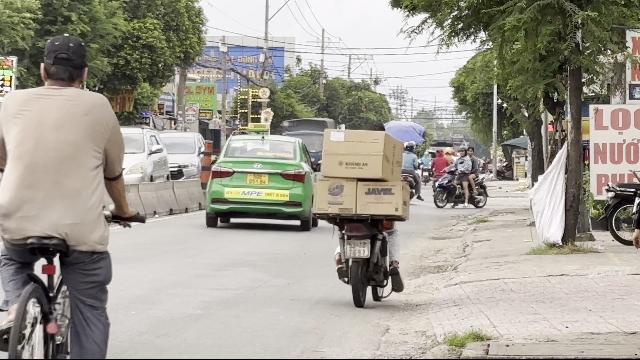licenseplate: (343, 239, 369, 257)
motorcyclist: (310, 100, 422, 306)
nohelmet: (361, 118, 387, 142)
